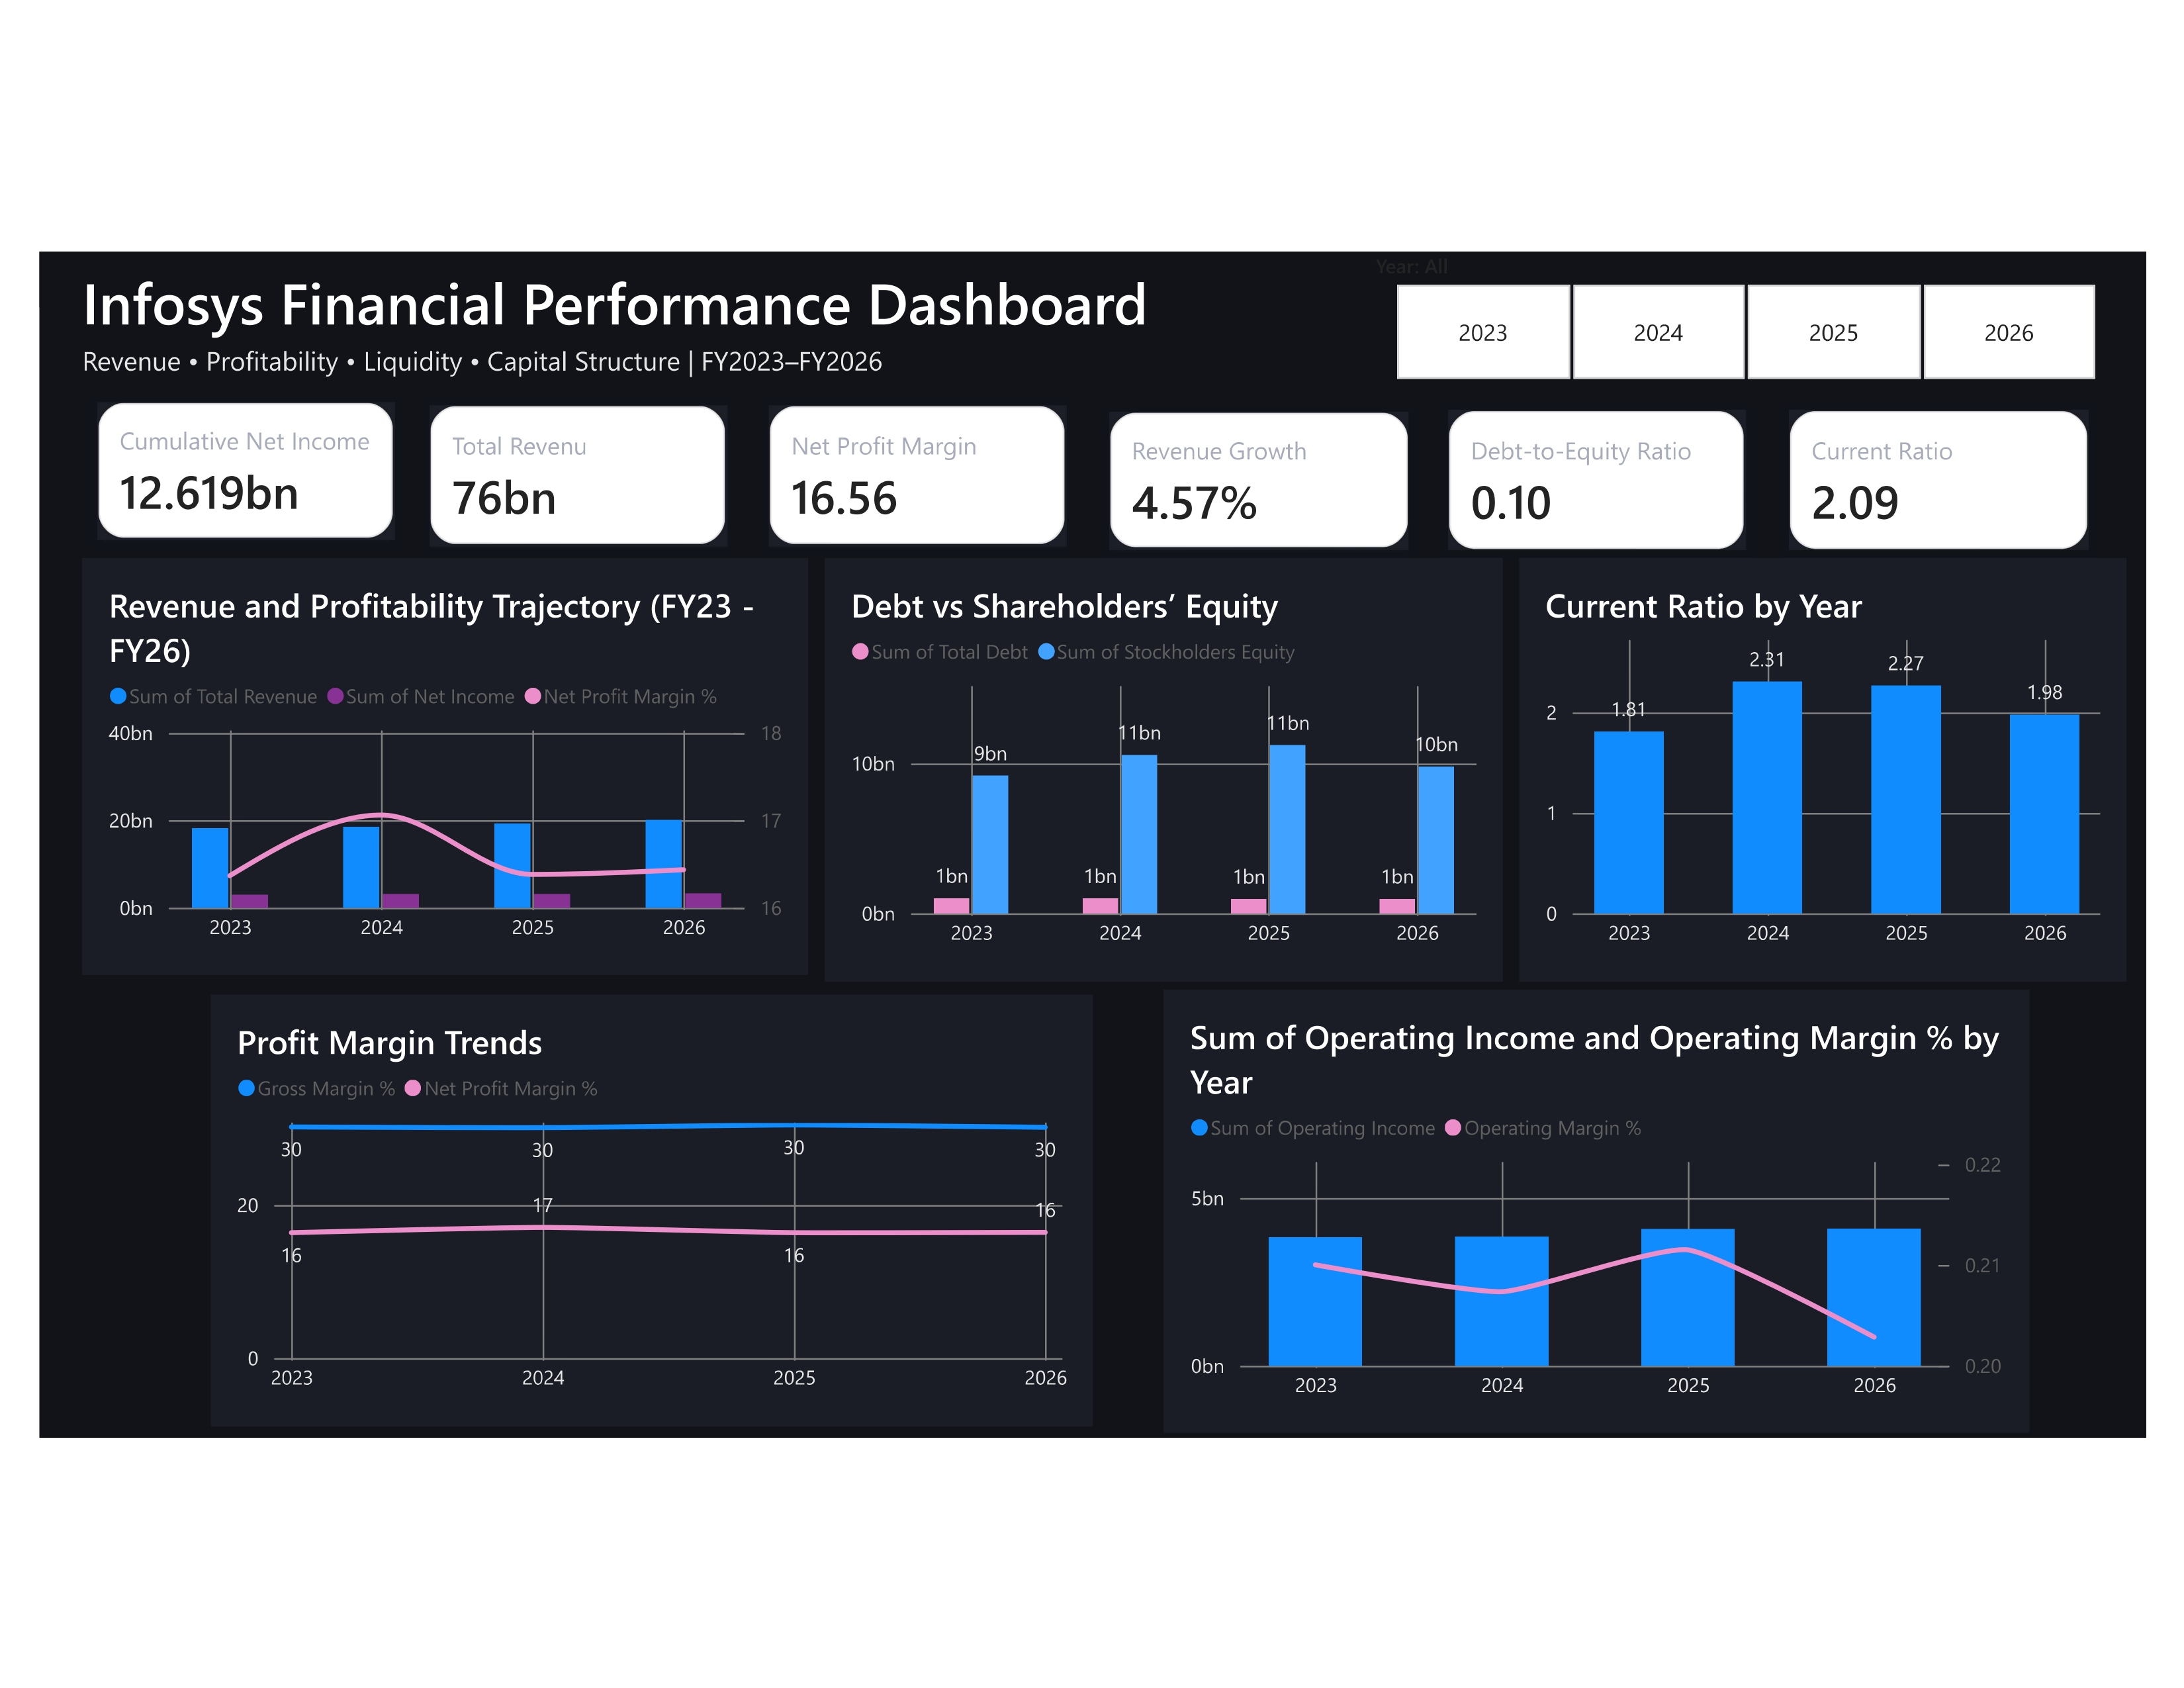

The dashboard page shown, as its layout file describes it:
{"tool":"powerbi","page":{"name":"Page 1","canvas":[1280,720],"ordinal":0},"visuals":[{"type":"lineClusteredColumnComboChart","title":"Revenue and Profitability Trajectory (FY23 - FY26)","fields":{"Category":["infosys_powerbi_master.Year"],"Y":["Sum(infosys_powerbi_master.Total Revenue)","Sum(infosys_powerbi_master.Net Income)"],"Y2":["infosys_powerbi_master.Net Profit Margin %"]},"box":[26.4,185.8,441,252.9],"z":0},{"type":"lineChart","title":"Profit Margin Trends","fields":{"Category":["infosys_powerbi_master.Year"],"Y":["infosys_powerbi_master.Gross Margin %","infosys_powerbi_master.Net Profit Margin %"]},"box":[104.3,451.4,535.7,261.4],"z":1},{"type":"clusteredColumnChart","fields":{"Category":["infosys_powerbi_master.Year"],"Y":["infosys_powerbi_master.Current Ratio"]},"box":[898.9,185.8,369.1,257.7],"z":2},{"type":"clusteredColumnChart","title":"Debt vs Shareholders’ Equity","fields":{"Category":["infosys_powerbi_master.Year"],"Y":["Sum(infosys_powerbi_master.Total Debt)","Sum(infosys_powerbi_master.Stockholders Equity)"]},"box":[477,185.8,412.3,257.7],"z":3},{"type":"cardVisual","fields":{"Data":["Sum(infosys_powerbi_master.Total Revenue)"]},"box":[237.3,93.5,181,85.1],"z":4},{"type":"cardVisual","title":"Total Revenue","fields":{"Data":["Sum(infosys_powerbi_master.Net Income)"]},"box":[34.8,91.1,181,83.9],"z":5},{"type":"cardVisual","fields":{"Data":["infosys_powerbi_master.Net Profit Margin %"]},"box":[443.4,93.5,181,85.1],"z":6},{"type":"textbox","title":"Infosys Financial Performance Dashboard","box":[26.4,7.2,691.5,71.9],"z":7},{"type":"slicer","fields":{"Values":["infosys_powerbi_master.Year"]},"box":[804.2,0,463.8,79.1],"z":9},{"type":"cardVisual","fields":{"Data":["infosys_powerbi_master.Debt to Equity"]},"box":[855.7,95.9,181,85.1],"z":11},{"type":"cardVisual","fields":{"Data":["infosys_powerbi_master.Current Ratio"]},"box":[1063.1,95.9,182.2,85.1],"z":12},{"type":"lineClusteredColumnComboChart","fields":{"Category":["infosys_powerbi_master.Year"],"Y":["Sum(infosys_powerbi_master.Operating Income)"],"Y2":["infosys_powerbi_master.Operating Margin %"]},"box":[683.1,448.2,526.1,268.5],"z":13},{"type":"cardVisual","fields":{"Data":["infosys_powerbi_master.Latest Revenue Growth"]},"box":[649.6,97.1,182.2,83.9],"z":14}]}

Visuals, with their boxes on the page's 1280x720 design canvas (x1, y1, x2, y2). These are canvas units, not pixel positions in the 2184x1688 screenshot, which may show the page scaled, cropped or inside an application window:
"Revenue and Profitability Trajectory (FY23 - FY26)" lineClusteredColumnComboChart: x1=26 y1=186 x2=467 y2=439
"Profit Margin Trends" lineChart: x1=104 y1=451 x2=640 y2=713
clusteredColumnChart - infosys_powerbi_master.Year x infosys_powerbi_master.Current Ratio: x1=899 y1=186 x2=1268 y2=444
"Debt vs Shareholders’ Equity" clusteredColumnChart: x1=477 y1=186 x2=889 y2=444
cardVisual - Sum(infosys_powerbi_master.Total Revenue): x1=237 y1=94 x2=418 y2=179
"Total Revenue" cardVisual: x1=35 y1=91 x2=216 y2=175
cardVisual - infosys_powerbi_master.Net Profit Margin %: x1=443 y1=94 x2=624 y2=179
"Infosys Financial Performance Dashboard" textbox: x1=26 y1=7 x2=718 y2=79
slicer - infosys_powerbi_master.Year: x1=804 y1=0 x2=1268 y2=79
cardVisual - infosys_powerbi_master.Debt to Equity: x1=856 y1=96 x2=1037 y2=181
cardVisual - infosys_powerbi_master.Current Ratio: x1=1063 y1=96 x2=1245 y2=181
lineClusteredColumnComboChart - infosys_powerbi_master.Year x Sum(infosys_powerbi_master.Operating Income): x1=683 y1=448 x2=1209 y2=717
cardVisual - infosys_powerbi_master.Latest Revenue Growth: x1=650 y1=97 x2=832 y2=181
